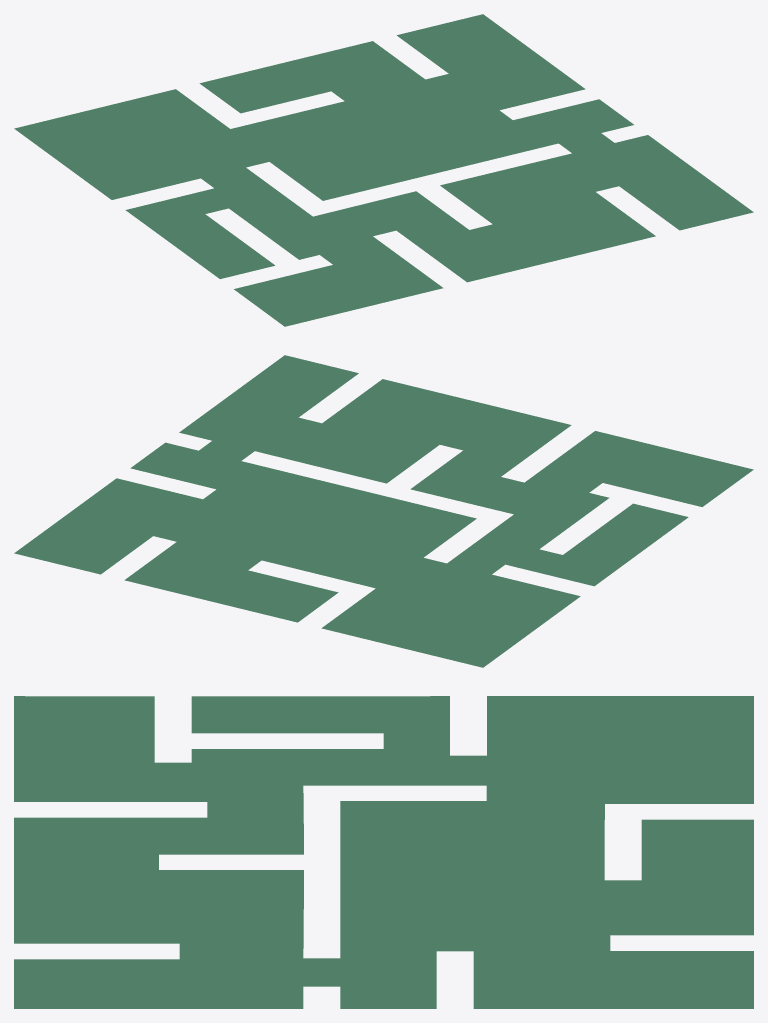
Rendered from MazeFloor.fbx.
3 renders of one model, top to bottom at view 1: azimuth 30°, elevation 25°; view 2: azimuth 150°, elevation 25°; view 3: azimuth 270°, elevation 25°, orthographic. The views are drawn at different scales.
Parts seen in each view (by area): view 1: MazeFloor; view 2: MazeFloor; view 3: MazeFloor.
Boxes of the visible parts, x1,y1,x2,y2 form: MazeFloor: (14,14,753,326); MazeFloor: (14,355,753,667); MazeFloor: (14,696,753,1008).
Size of the model in its own units: 2000 by 0 by 2000.
